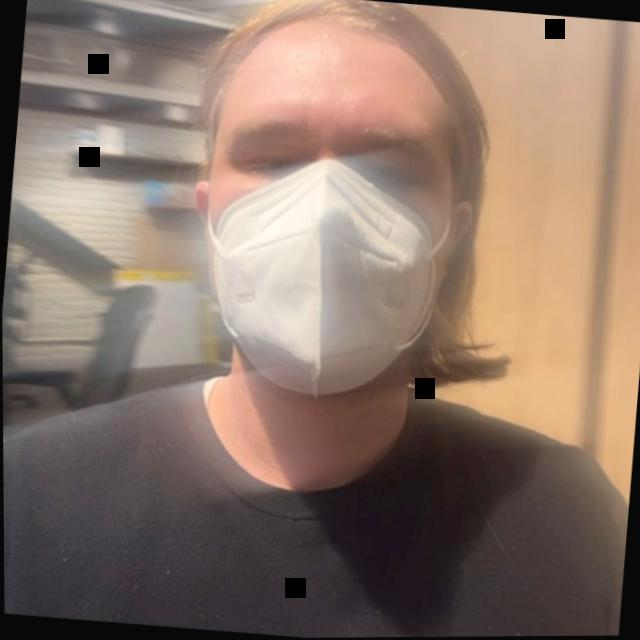Mask: (155, 0, 536, 412)
